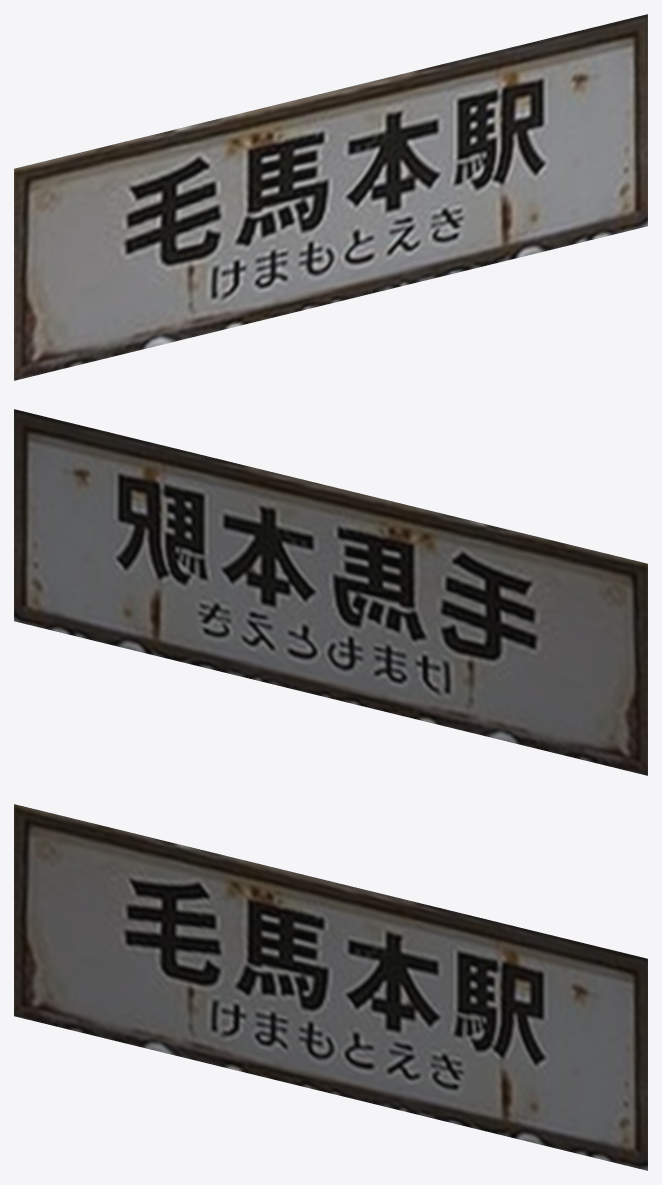
File: Sign.FBX
3 views of the same model, one above another, from view 1: azimuth 30°, elevation 25°; view 2: azimuth 150°, elevation 25°; view 3: azimuth 330°, elevation 25° (orthographic).
Visible parts, largest first — view 1: Plane001; view 2: Plane001; view 3: Plane001.
Boxes of the visible parts, x1,y1,x2,y2 form: Plane001: (14,14,647,380); Plane001: (14,409,647,775); Plane001: (14,804,647,1170).
Size of the model in its own units: 13.93 by 4.45 by 5.58e-07.
Materials: 1 (1 with a texture image).
